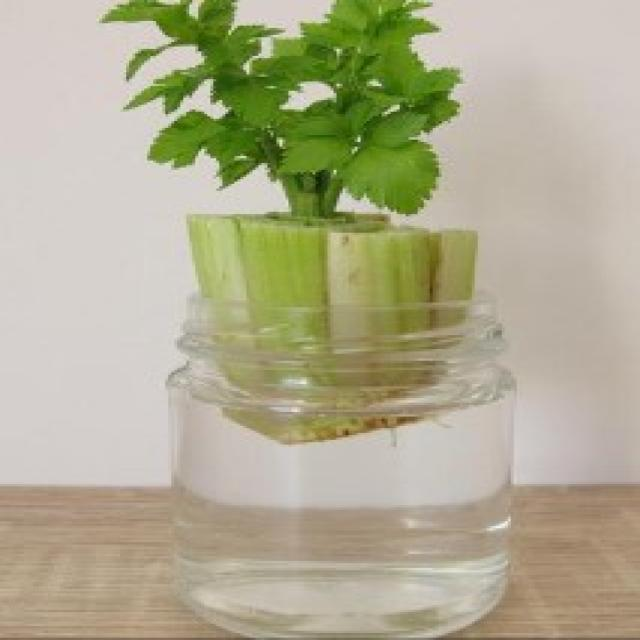electronic: (159, 291, 517, 640)
